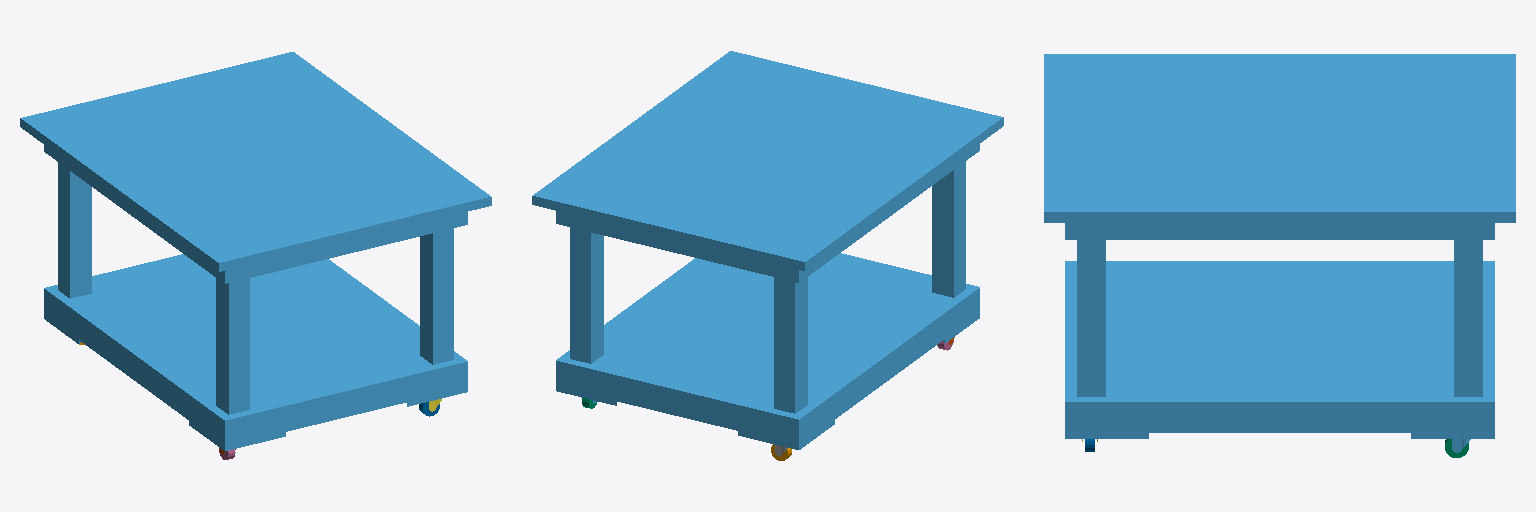
The robot description file, URDF, robot "partnet_138c29cb642dcd6352620f29156438e2":
<?xml version="1.0" ?>
<robot name="partnet_138c29cb642dcd6352620f29156438e2">
	<link name="base"/>
	<link name="link_0">
		<visual name="caster_stem-22">
			<origin xyz="0.606799069797977 0 0.46982091460933856"/>
			<geometry>
				<mesh filename="textured_objs/original-37.obj" scale="0.45 0.45 0.45" />
			</geometry>
		</visual>
		<visual name="caster_stem-22">
			<origin xyz="0.606799069797977 0 0.46982091460933856"/>
			<geometry>
				<mesh filename="textured_objs/original-38.obj" scale="0.45 0.45 0.45" />
			</geometry>
		</visual>
		<collision>
			<origin xyz="0.606799069797977 0 0.46982091460933856"/>
			<geometry>
				<mesh filename="textured_objs/original-37.obj" scale="0.45 0.45 0.45" />
			</geometry>
		</collision>
		<collision>
			<origin xyz="0.606799069797977 0 0.46982091460933856"/>
			<geometry>
				<mesh filename="textured_objs/original-38.obj" scale="0.45 0.45 0.45" />
			</geometry>
		</collision>
	</link>
	<joint name="joint_0" type="fixed">
		<origin xyz="-0.606799069797977 0 -0.46982091460933856"/>
		<axis xyz="0 1 0"/>
		<child link="link_0"/>
		<parent link="link_8"/>
	</joint>
	<link name="link_1">
		<visual name="wheel-23">
			<origin xyz="0.5753904999999999 0.5511784999999999 0"/>
			<geometry>
				<mesh filename="textured_objs/original-36.obj" scale="0.45 0.45 0.45" />
			</geometry>
		</visual>
		<collision>
			<origin xyz="0.5753904999999999 0.5511784999999999 0"/>
			<geometry>
				<mesh filename="textured_objs/original-36.obj" scale="0.45 0.45 0.45" />
			</geometry>
		</collision>
	</link>
	<joint name="joint_1" type="fixed">
		<origin xyz="0.031408569797977126 -0.5511784999999999 0.46982091460933856"/>
		<axis xyz="0 0 1"/>
		<child link="link_1"/>
		<parent link="link_0"/>
	</joint>
	<link name="link_2">
		<visual name="caster_stem-20">
			<origin xyz="-0.6015289615053332 0 0.45847411478613603"/>
			<geometry>
				<mesh filename="textured_objs/original-28.obj" scale="0.45 0.45 0.45" />
			</geometry>
		</visual>
		<visual name="caster_stem-20">
			<origin xyz="-0.6015289615053332 0 0.45847411478613603"/>
			<geometry>
				<mesh filename="textured_objs/original-29.obj" scale="0.45 0.45 0.45" />
			</geometry>
		</visual>
		<collision>
			<origin xyz="-0.6015289615053332 0 0.45847411478613603"/>
			<geometry>
				<mesh filename="textured_objs/original-28.obj" scale="0.45 0.45 0.45" />
			</geometry>
		</collision>
		<collision>
			<origin xyz="-0.6015289615053332 0 0.45847411478613603"/>
			<geometry>
				<mesh filename="textured_objs/original-29.obj" scale="0.45 0.45 0.45" />
			</geometry>
		</collision>
	</link>
	<joint name="joint_2" type="fixed">
		<origin xyz="0.6015289615053332 0 -0.45847411478613603"/>
		<axis xyz="0 1 0"/>
		<child link="link_2"/>
		<parent link="link_8"/>
	</joint>
	<link name="link_3">
		<visual name="wheel-21">
			<origin xyz="-0.6243054491276966 0.5514421963839776 0.42814229096345746"/>
			<geometry>
				<mesh filename="textured_objs/original-27.obj" scale="0.45 0.45 0.45" />
			</geometry>
		</visual>
		<collision>
			<origin xyz="-0.6243054491276966 0.5514421963839776 0.42814229096345746"/>
			<geometry>
				<mesh filename="textured_objs/original-27.obj" scale="0.45 0.45 0.45" />
			</geometry>
		</collision>
	</link>
	<joint name="joint_3" type="fixed">
		<origin xyz="0.022776487622363395 -0.5514421963839776 0.030331823822678572"/>
		<axis xyz="0.9999999993838132 6.0259324194091366e-06 -3.458412586590247e-05"/>
		<child link="link_3"/>
		<parent link="link_2"/>
	</joint>
	<link name="link_4">
		<visual name="caster_stem-18">
			<origin xyz="-0.5901816443331189 0 -0.43996147110157713"/>
			<geometry>
				<mesh filename="textured_objs/original-21.obj" scale="0.45 0.45 0.45" />
			</geometry>
		</visual>
		<visual name="caster_stem-18">
			<origin xyz="-0.5901816443331189 0 -0.43996147110157713"/>
			<geometry>
				<mesh filename="textured_objs/original-20.obj" scale="0.45 0.45 0.45" />
			</geometry>
		</visual>
		<collision>
			<origin xyz="-0.5901816443331189 0 -0.43996147110157713"/>
			<geometry>
				<mesh filename="textured_objs/original-21.obj" scale="0.45 0.45 0.45" />
			</geometry>
		</collision>
		<collision>
			<origin xyz="-0.5901816443331189 0 -0.43996147110157713"/>
			<geometry>
				<mesh filename="textured_objs/original-20.obj" scale="0.45 0.45 0.45" />
			</geometry>
		</collision>
	</link>
	<joint name="joint_4" type="fixed">
		<origin xyz="0.5901816443331189 0 0.43996147110157713"/>
		<axis xyz="0 1 0"/>
		<child link="link_4"/>
		<parent link="link_8"/>
	</joint>
	<link name="link_5">
		<visual name="wheel-19">
			<origin xyz="-0.5587737868012876 0.5511784999999999 0"/>
			<geometry>
				<mesh filename="textured_objs/original-19.obj" scale="0.45 0.45 0.45" />
			</geometry>
		</visual>
		<collision>
			<origin xyz="-0.5587737868012876 0.5511784999999999 0"/>
			<geometry>
				<mesh filename="textured_objs/original-19.obj" scale="0.45 0.45 0.45" />
			</geometry>
		</collision>
	</link>
	<joint name="joint_5" type="fixed">
		<origin xyz="-0.031407857531831285 -0.5511784999999999 -0.43996147110157713"/>
		<axis xyz="0 0 -1"/>
		<child link="link_5"/>
		<parent link="link_4"/>
	</joint>
	<link name="link_6">
		<visual name="caster_stem-16">
			<origin xyz="0.6181829999999999 0 -0.42662500000000003"/>
			<geometry>
				<mesh filename="textured_objs/original-45.obj" scale="0.45 0.45 0.45" />
			</geometry>
		</visual>
		<visual name="caster_stem-16">
			<origin xyz="0.6181829999999999 0 -0.42662500000000003"/>
			<geometry>
				<mesh filename="textured_objs/original-46.obj" scale="0.45 0.45 0.45" />
			</geometry>
		</visual>
		<collision>
			<origin xyz="0.6181829999999999 0 -0.42662500000000003"/>
			<geometry>
				<mesh filename="textured_objs/original-45.obj" scale="0.45 0.45 0.45" />
			</geometry>
		</collision>
		<collision>
			<origin xyz="0.6181829999999999 0 -0.42662500000000003"/>
			<geometry>
				<mesh filename="textured_objs/original-46.obj" scale="0.45 0.45 0.45" />
			</geometry>
		</collision>
	</link>
	<joint name="joint_6" type="fixed">
		<origin xyz="-0.6181829999999999 0 0.42662500000000003"/>
		<axis xyz="0 1 0"/>
		<child link="link_6"/>
		<parent link="link_8"/>
	</joint>
	<link name="link_7">
		<visual name="wheel-17">
			<origin xyz="0.640922 0.5512141919173537 -0.39798255958692286"/>
			<geometry>
				<mesh filename="textured_objs/original-44.obj" scale="0.45 0.45 0.45" />
			</geometry>
		</visual>
		<collision>
			<origin xyz="0.640922 0.5512141919173537 -0.39798255958692286"/>
			<geometry>
				<mesh filename="textured_objs/original-44.obj" scale="0.45 0.45 0.45" />
			</geometry>
		</collision>
	</link>
	<joint name="joint_7" type="fixed">
		<origin xyz="-0.022739000000000065 -0.5512141919173537 -0.028642440413077175"/>
		<axis xyz="1 0 0"/>
		<child link="link_7"/>
		<parent link="link_6"/>
	</joint>
	<link name="link_8">
		<visual name="board-40">
			<origin xyz="0 0 0"/>
			<geometry>
				<mesh filename="textured_objs/original-51.obj" scale="0.45 0.45 0.45" />
			</geometry>
		</visual>
		<visual name="board-40">
			<origin xyz="0 0 0"/>
			<geometry>
				<mesh filename="textured_objs/original-50.obj" scale="0.45 0.45 0.45" />
			</geometry>
		</visual>
		<visual name="vertical_divider_panel-7">
			<origin xyz="0 0 0"/>
			<geometry>
				<mesh filename="textured_objs/original-11.obj" scale="0.45 0.45 0.45" />
			</geometry>
		</visual>
		<visual name="leg-8">
			<origin xyz="0 0 0"/>
			<geometry>
				<mesh filename="textured_objs/original-4.obj" scale="0.45 0.45 0.45" />
			</geometry>
		</visual>
		<visual name="leg-9">
			<origin xyz="0 0 0"/>
			<geometry>
				<mesh filename="textured_objs/original-3.obj" scale="0.45 0.45 0.45" />
			</geometry>
		</visual>
		<visual name="leg-10">
			<origin xyz="0 0 0"/>
			<geometry>
				<mesh filename="textured_objs/original-2.obj" scale="0.45 0.45 0.45" />
			</geometry>
		</visual>
		<visual name="leg-11">
			<origin xyz="0 0 0"/>
			<geometry>
				<mesh filename="textured_objs/original-5.obj" scale="0.45 0.45 0.45" />
			</geometry>
		</visual>
		<visual name="shelf-24">
			<origin xyz="0 0 0"/>
			<geometry>
				<mesh filename="textured_objs/original-13.obj" scale="0.45 0.45 0.45" />
			</geometry>
		</visual>
		<visual name="base_side_panel-25">
			<origin xyz="0 0 0"/>
			<geometry>
				<mesh filename="textured_objs/original-10.obj" scale="0.45 0.45 0.45" />
			</geometry>
		</visual>
		<visual name="base_side_panel-26">
			<origin xyz="0 0 0"/>
			<geometry>
				<mesh filename="textured_objs/original-12.obj" scale="0.45 0.45 0.45" />
			</geometry>
		</visual>
		<visual name="base_side_panel-27">
			<origin xyz="0 0 0"/>
			<geometry>
				<mesh filename="textured_objs/original-9.obj" scale="0.45 0.45 0.45" />
			</geometry>
		</visual>
		<visual name="base_side_panel-28">
			<origin xyz="0 0 0"/>
			<geometry>
				<mesh filename="textured_objs/original-8.obj" scale="0.45 0.45 0.45" />
			</geometry>
		</visual>
		<visual name="tabletop_connector-29">
			<origin xyz="0 0 0"/>
			<geometry>
				<mesh filename="textured_objs/original-58.obj" scale="0.45 0.45 0.45" />
			</geometry>
		</visual>
		<visual name="tabletop_connector-30">
			<origin xyz="0 0 0"/>
			<geometry>
				<mesh filename="textured_objs/original-56.obj" scale="0.45 0.45 0.45" />
			</geometry>
		</visual>
		<visual name="tabletop_connector-31">
			<origin xyz="0 0 0"/>
			<geometry>
				<mesh filename="textured_objs/original-54.obj" scale="0.45 0.45 0.45" />
			</geometry>
		</visual>
		<visual name="tabletop_connector-32">
			<origin xyz="0 0 0"/>
			<geometry>
				<mesh filename="textured_objs/original-53.obj" scale="0.45 0.45 0.45" />
			</geometry>
		</visual>
		<visual name="tabletop_connector-33">
			<origin xyz="0 0 0"/>
			<geometry>
				<mesh filename="textured_objs/original-57.obj" scale="0.45 0.45 0.45" />
			</geometry>
		</visual>
		<visual name="tabletop_connector-34">
			<origin xyz="0 0 0"/>
			<geometry>
				<mesh filename="textured_objs/original-55.obj" scale="0.45 0.45 0.45" />
			</geometry>
		</visual>
		<visual name="bottom_panel-35">
			<origin xyz="0 0 0"/>
			<geometry>
				<mesh filename="textured_objs/original-40.obj" scale="0.45 0.45 0.45" />
			</geometry>
		</visual>
		<visual name="bottom_panel-36">
			<origin xyz="0 0 0"/>
			<geometry>
				<mesh filename="textured_objs/original-48.obj" scale="0.45 0.45 0.45" />
			</geometry>
		</visual>
		<visual name="bottom_panel-37">
			<origin xyz="0 0 0"/>
			<geometry>
				<mesh filename="textured_objs/original-23.obj" scale="0.45 0.45 0.45" />
			</geometry>
		</visual>
		<visual name="bottom_panel-38">
			<origin xyz="0 0 0"/>
			<geometry>
				<mesh filename="textured_objs/original-30.obj" scale="0.45 0.45 0.45" />
			</geometry>
		</visual>
		<visual name="bottom_panel-38">
			<origin xyz="0 0 0"/>
			<geometry>
				<mesh filename="textured_objs/original-31.obj" scale="0.45 0.45 0.45" />
			</geometry>
		</visual>
		<collision>
			<origin xyz="0 0 0"/>
			<geometry>
				<mesh filename="textured_objs/original-51.obj" scale="0.45 0.45 0.45" />
			</geometry>
		</collision>
		<collision>
			<origin xyz="0 0 0"/>
			<geometry>
				<mesh filename="textured_objs/original-50.obj" scale="0.45 0.45 0.45" />
			</geometry>
		</collision>
		<collision>
			<origin xyz="0 0 0"/>
			<geometry>
				<mesh filename="textured_objs/original-11.obj" scale="0.45 0.45 0.45" />
			</geometry>
		</collision>
		<collision>
			<origin xyz="0 0 0"/>
			<geometry>
				<mesh filename="textured_objs/original-4.obj" scale="0.45 0.45 0.45" />
			</geometry>
		</collision>
		<collision>
			<origin xyz="0 0 0"/>
			<geometry>
				<mesh filename="textured_objs/original-3.obj" scale="0.45 0.45 0.45" />
			</geometry>
		</collision>
		<collision>
			<origin xyz="0 0 0"/>
			<geometry>
				<mesh filename="textured_objs/original-2.obj" scale="0.45 0.45 0.45" />
			</geometry>
		</collision>
		<collision>
			<origin xyz="0 0 0"/>
			<geometry>
				<mesh filename="textured_objs/original-5.obj" scale="0.45 0.45 0.45" />
			</geometry>
		</collision>
		<collision>
			<origin xyz="0 0 0"/>
			<geometry>
				<mesh filename="textured_objs/original-13.obj" scale="0.45 0.45 0.45" />
			</geometry>
		</collision>
		<collision>
			<origin xyz="0 0 0"/>
			<geometry>
				<mesh filename="textured_objs/original-10.obj" scale="0.45 0.45 0.45" />
			</geometry>
		</collision>
		<collision>
			<origin xyz="0 0 0"/>
			<geometry>
				<mesh filename="textured_objs/original-12.obj" scale="0.45 0.45 0.45" />
			</geometry>
		</collision>
		<collision>
			<origin xyz="0 0 0"/>
			<geometry>
				<mesh filename="textured_objs/original-9.obj" scale="0.45 0.45 0.45" />
			</geometry>
		</collision>
		<collision>
			<origin xyz="0 0 0"/>
			<geometry>
				<mesh filename="textured_objs/original-8.obj" scale="0.45 0.45 0.45" />
			</geometry>
		</collision>
		<collision>
			<origin xyz="0 0 0"/>
			<geometry>
				<mesh filename="textured_objs/original-58.obj" scale="0.45 0.45 0.45" />
			</geometry>
		</collision>
		<collision>
			<origin xyz="0 0 0"/>
			<geometry>
				<mesh filename="textured_objs/original-56.obj" scale="0.45 0.45 0.45" />
			</geometry>
		</collision>
		<collision>
			<origin xyz="0 0 0"/>
			<geometry>
				<mesh filename="textured_objs/original-54.obj" scale="0.45 0.45 0.45" />
			</geometry>
		</collision>
		<collision>
			<origin xyz="0 0 0"/>
			<geometry>
				<mesh filename="textured_objs/original-53.obj" scale="0.45 0.45 0.45" />
			</geometry>
		</collision>
		<collision>
			<origin xyz="0 0 0"/>
			<geometry>
				<mesh filename="textured_objs/original-57.obj" scale="0.45 0.45 0.45" />
			</geometry>
		</collision>
		<collision>
			<origin xyz="0 0 0"/>
			<geometry>
				<mesh filename="textured_objs/original-55.obj" scale="0.45 0.45 0.45" />
			</geometry>
		</collision>
		<collision>
			<origin xyz="0 0 0"/>
			<geometry>
				<mesh filename="textured_objs/original-40.obj" scale="0.45 0.45 0.45" />
			</geometry>
		</collision>
		<collision>
			<origin xyz="0 0 0"/>
			<geometry>
				<mesh filename="textured_objs/original-48.obj" scale="0.45 0.45 0.45" />
			</geometry>
		</collision>
		<collision>
			<origin xyz="0 0 0"/>
			<geometry>
				<mesh filename="textured_objs/original-23.obj" scale="0.45 0.45 0.45" />
			</geometry>
		</collision>
		<collision>
			<origin xyz="0 0 0"/>
			<geometry>
				<mesh filename="textured_objs/original-30.obj" scale="0.45 0.45 0.45" />
			</geometry>
		</collision>
		<collision>
			<origin xyz="0 0 0"/>
			<geometry>
				<mesh filename="textured_objs/original-31.obj" scale="0.45 0.45 0.45" />
			</geometry>
		</collision>
	</link>
	<joint name="joint_8" type="fixed">
		<origin rpy="1.570796326794897 0 -1.570796326794897" xyz="0 0 0"/>
		<child link="link_8"/>
		<parent link="base"/>
	</joint>
</robot>

--- Render facts (derived) ---
The picture shows the robot from 3 angles, left to right: view 1: azimuth 30°, elevation 25°; view 2: azimuth 150°, elevation 25°; view 3: azimuth 270°, elevation 25°; orthographic projection.
Model partnet_138c29cb642dcd6352620f29156438e2 with 10 links and 9 joints (9 fixed), rooted at base, posed every joint at zero.
Links seen in each view (by area): view 1: link_8; view 2: link_8; view 3: link_8.
Boxes of the visible links, x1,y1,x2,y2 form: link_8: (20,52,491,450); link_8: (532,51,1003,449); link_8: (1044,54,1515,438).
Size in the robot's own frame: 0.5404 by 0.6798 by 0.4198 metres.
35 mesh visuals loaded from 35 distinct referenced files (35 OBJ).